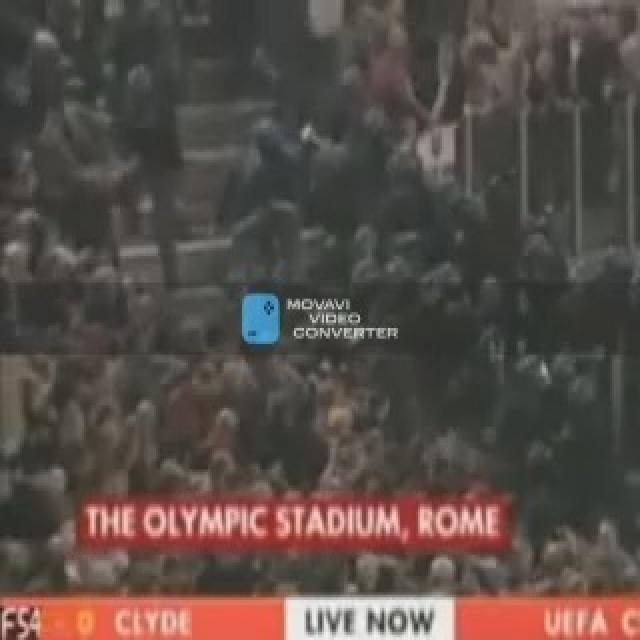non-voilence: (0, 0, 638, 605), (238, 290, 280, 346)
